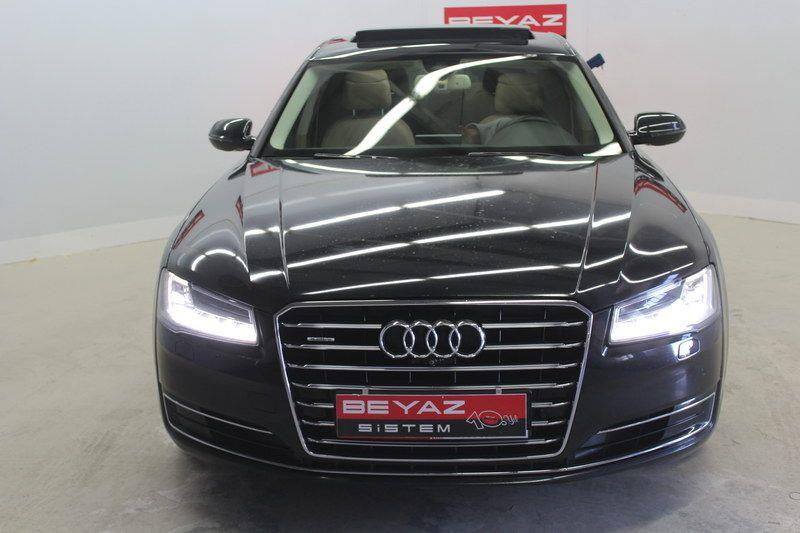audi: (374, 316, 491, 363)
